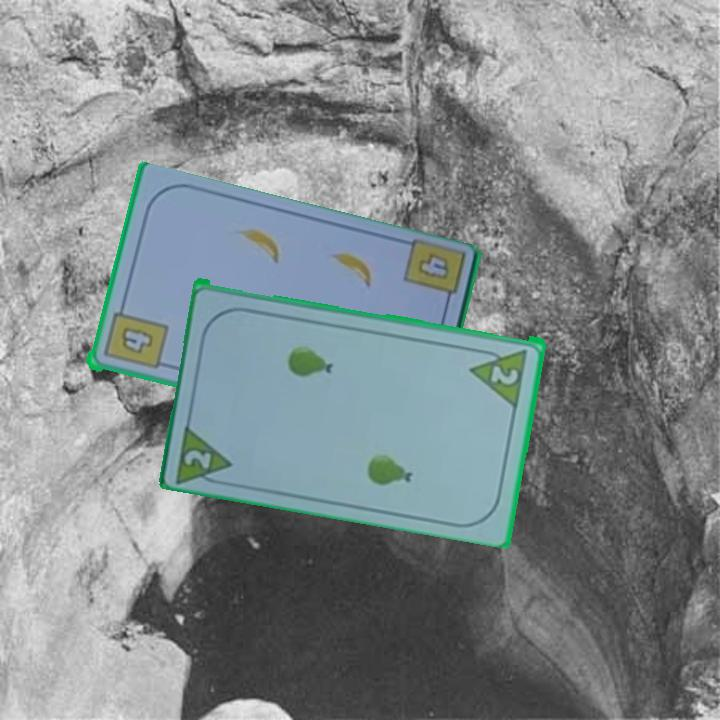2p: (172, 418, 237, 488), (487, 360, 522, 387)
4b: (398, 238, 468, 314), (99, 301, 170, 373)
